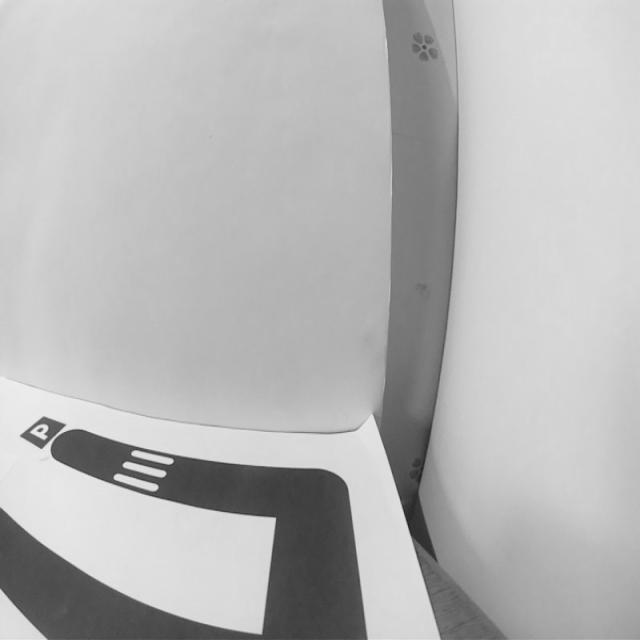laneLeftTurn: (250, 442, 382, 640)
